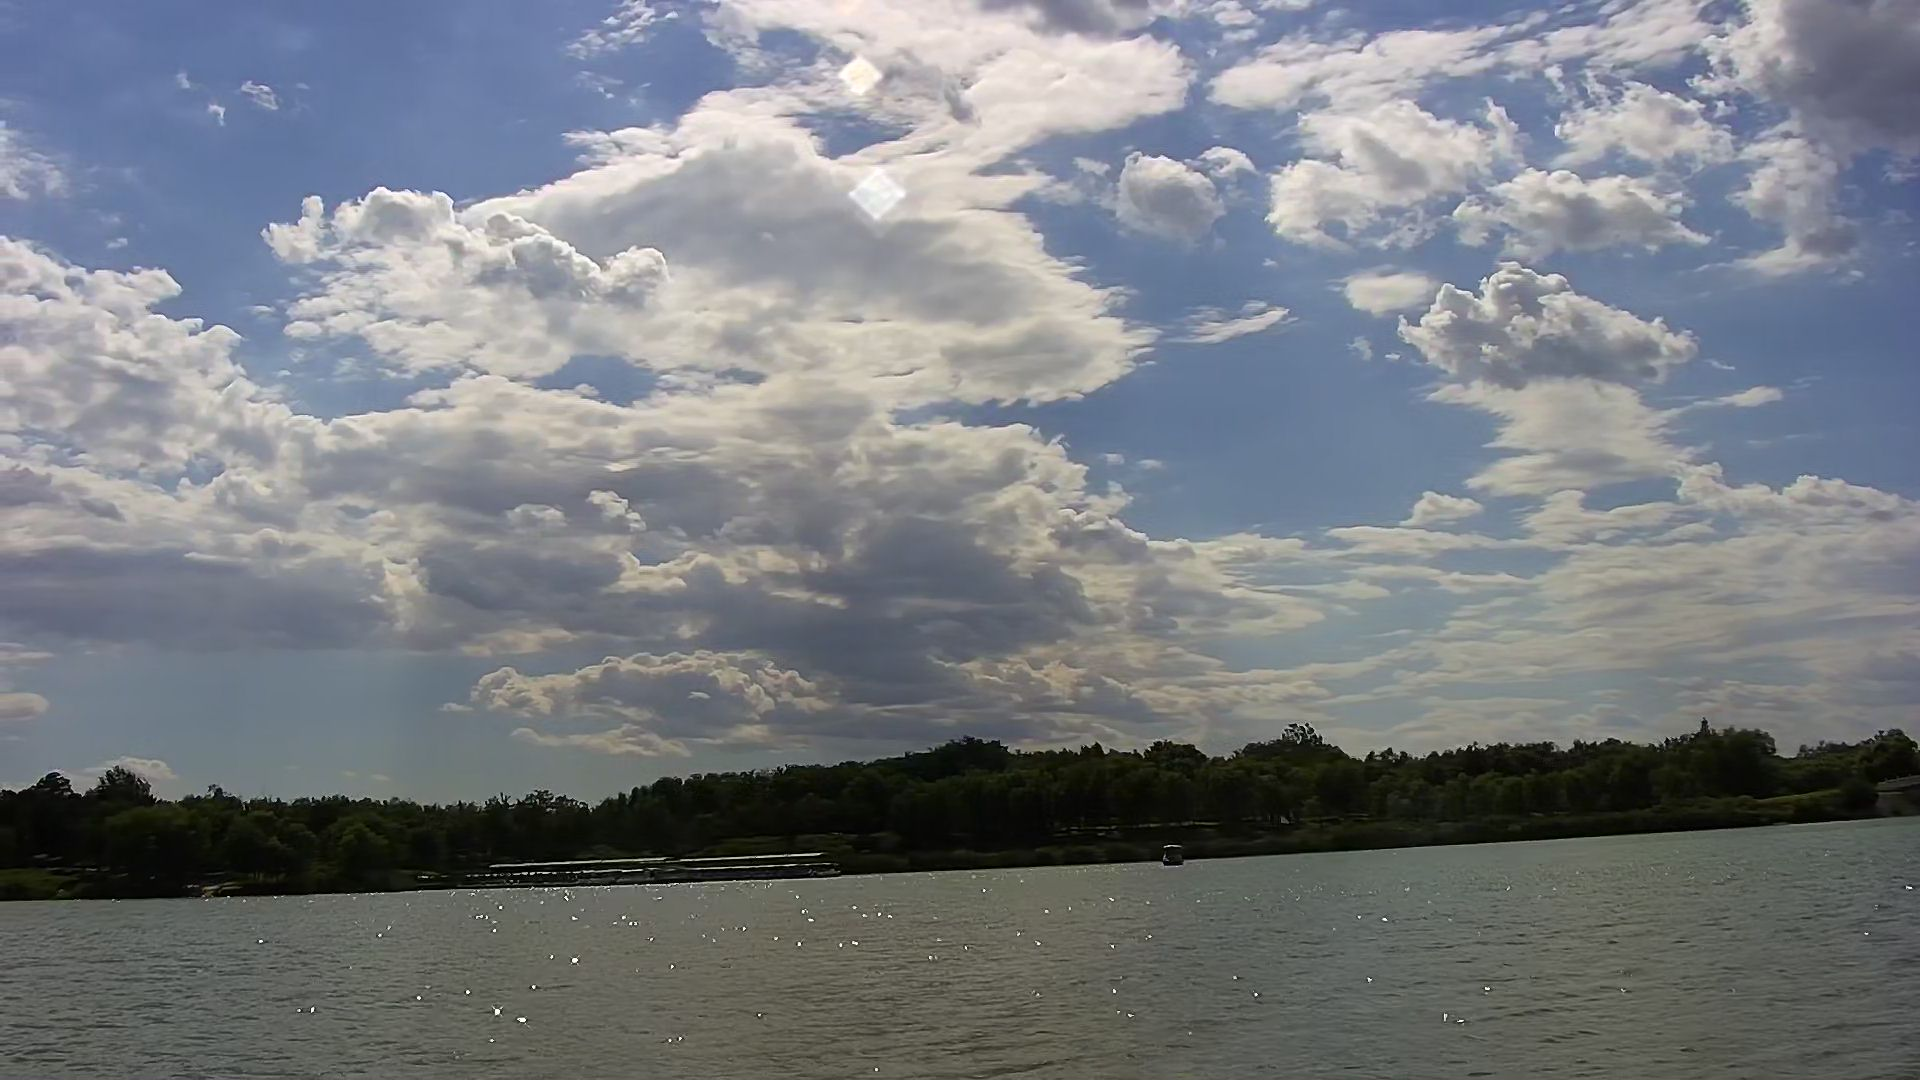boat: (1156, 840, 1192, 868)
harbor: (479, 845, 832, 891)
